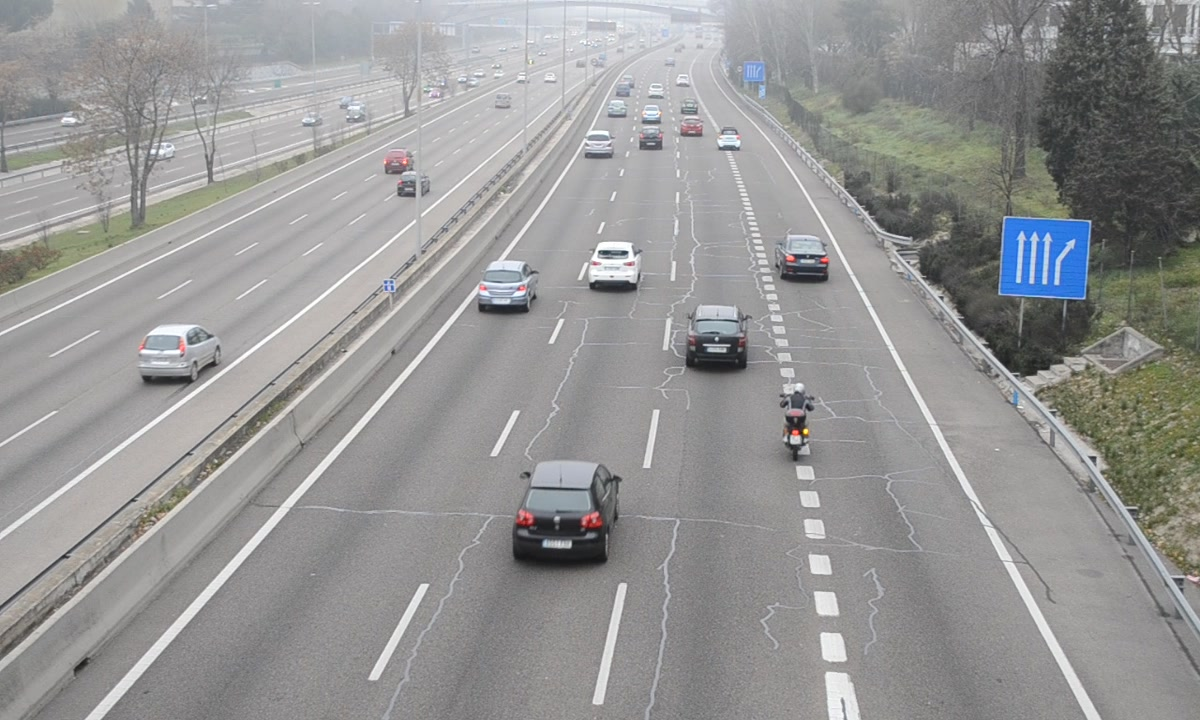car: (513, 462, 618, 562), (685, 306, 748, 367), (478, 260, 538, 309), (587, 242, 644, 286), (776, 234, 830, 280), (583, 129, 615, 160), (718, 125, 741, 152), (639, 126, 662, 151)
motorcycle: (778, 383, 818, 463)
